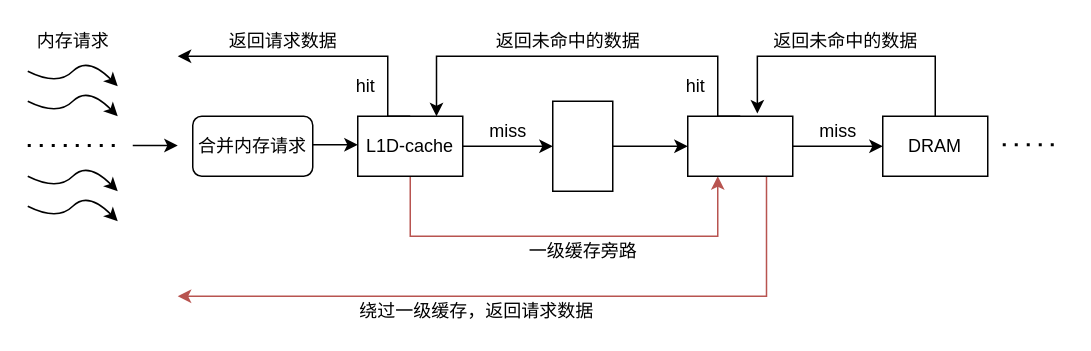
The diagram is 1091 pixels wide and 351 high, and some of its shapes have lost their labels. The shapes that lost their labels are listed below. From the top down, each one's centre as x and y in pixels, then its label:
At point (582, 145): "MSHR".
At point (739, 145): "L2-cache".
